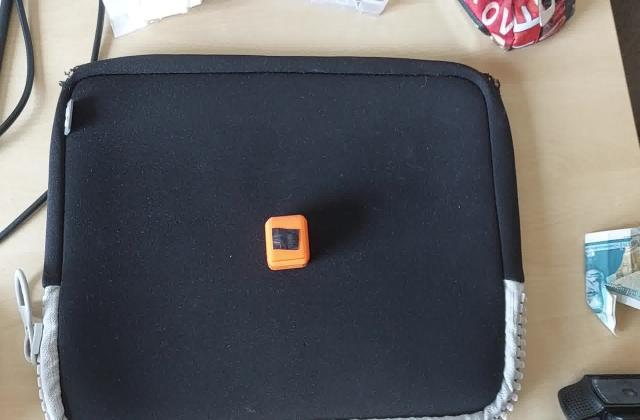black: (269, 226, 303, 253)
sticker: (261, 214, 312, 274)
